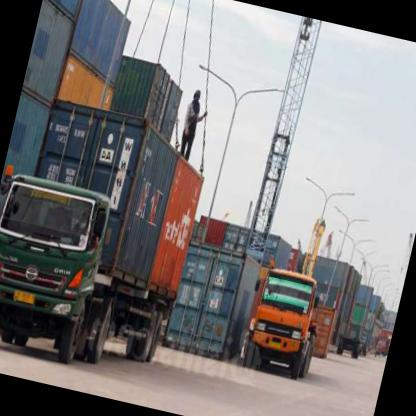truck: (1, 168, 118, 370), (243, 263, 322, 381)
